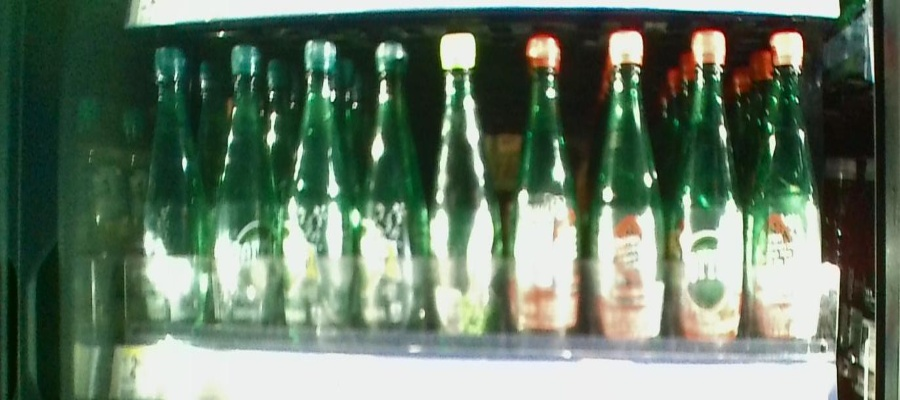bottle: (749, 28, 824, 354), (506, 26, 585, 330), (592, 32, 666, 345), (675, 28, 741, 341), (429, 31, 497, 330), (213, 42, 280, 327), (138, 36, 205, 316), (286, 35, 350, 326), (358, 43, 424, 325)
